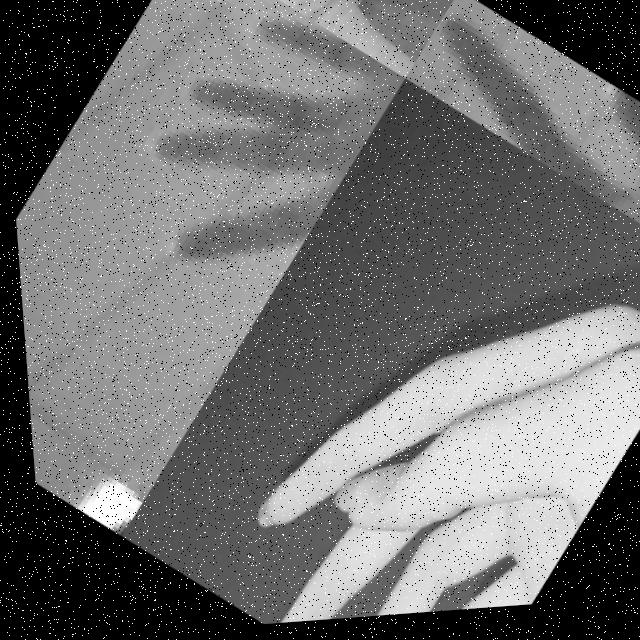hand: (171, 129, 640, 631), (77, 0, 415, 328), (397, 0, 640, 309), (189, 0, 419, 66)
